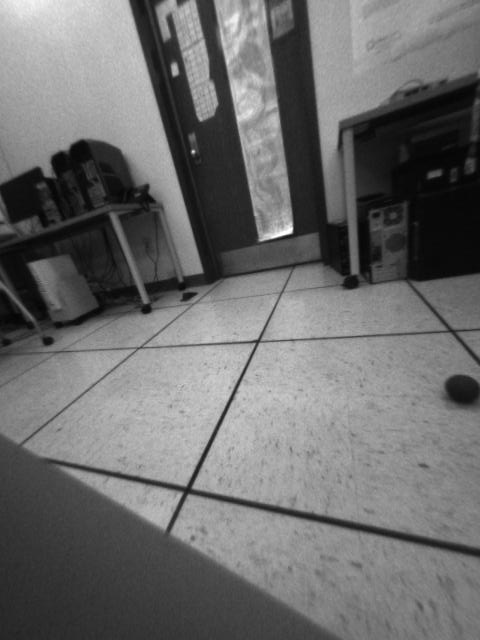dogtoy: (437, 364, 480, 411)
